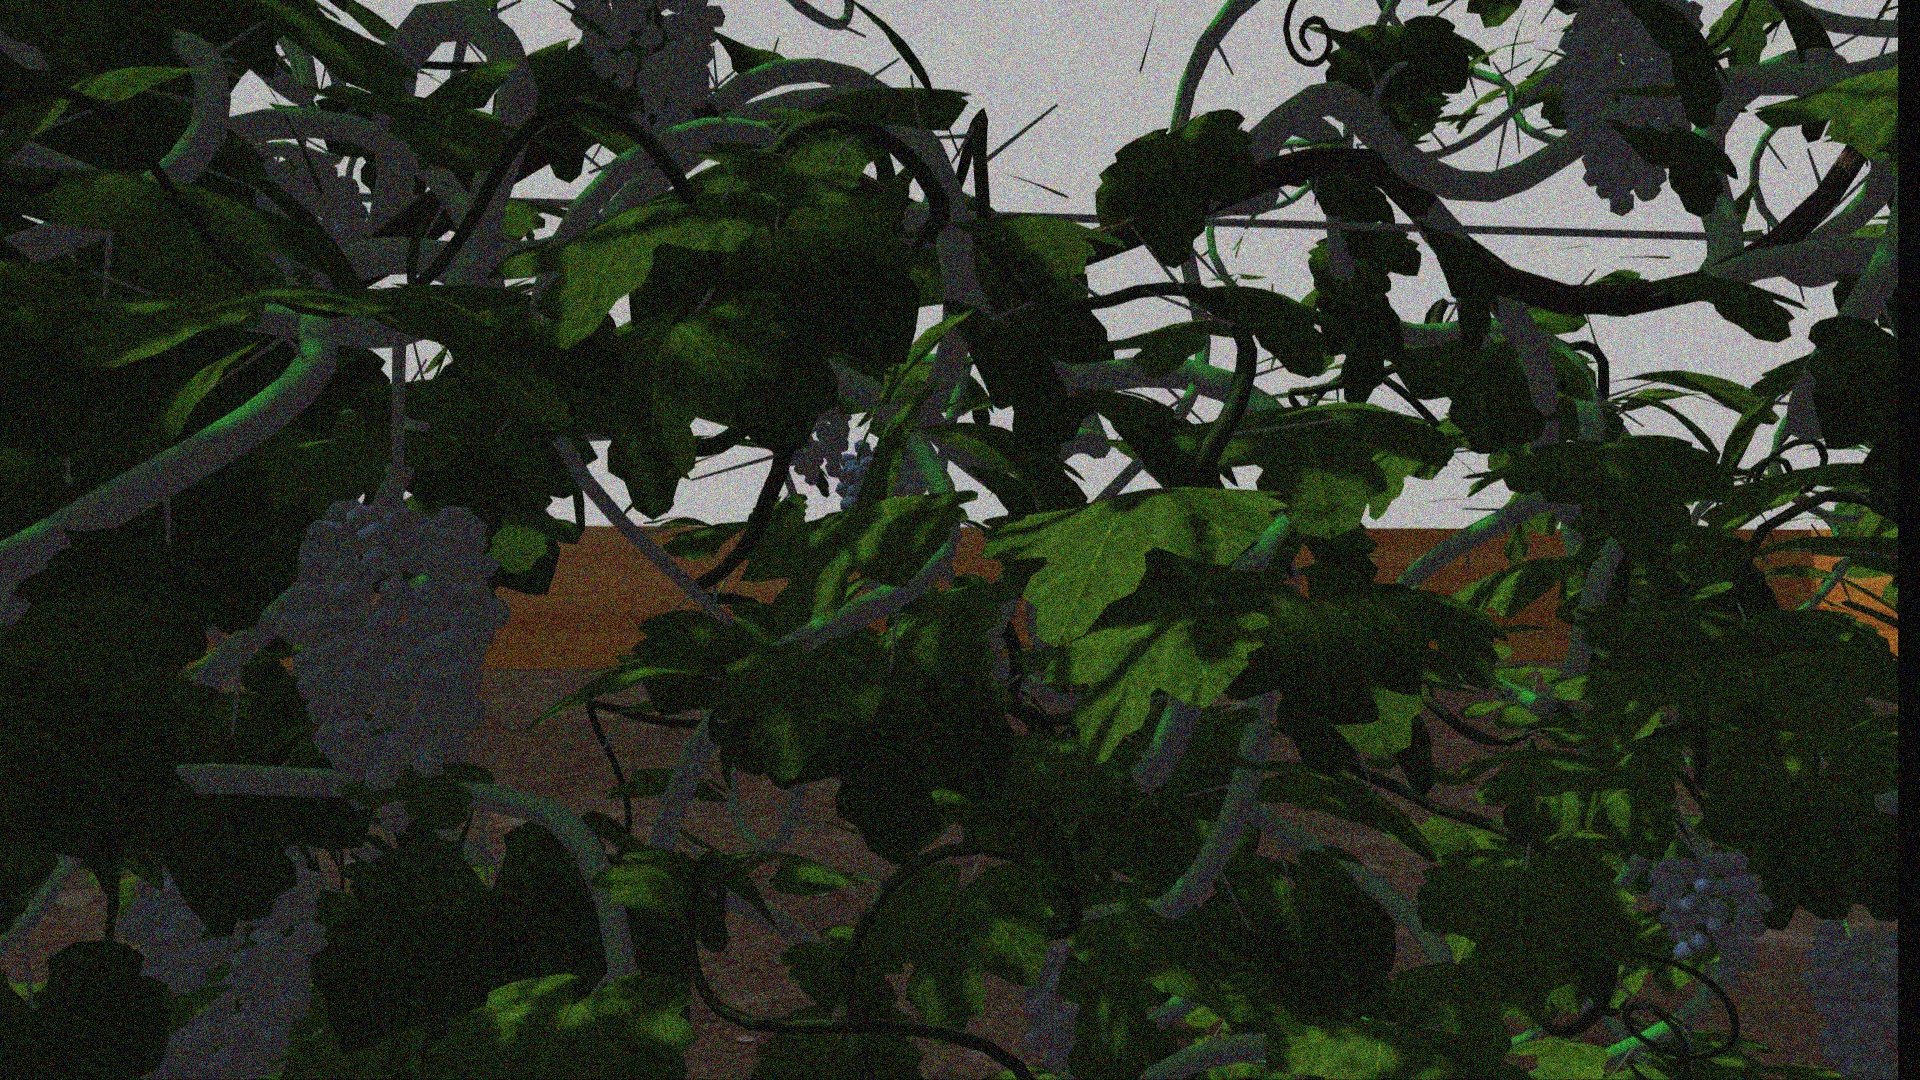grape: (282, 497, 510, 789), (117, 849, 324, 1069), (1555, 11, 1688, 214), (1647, 837, 1774, 988), (570, 3, 727, 121), (1804, 918, 1894, 1073)
